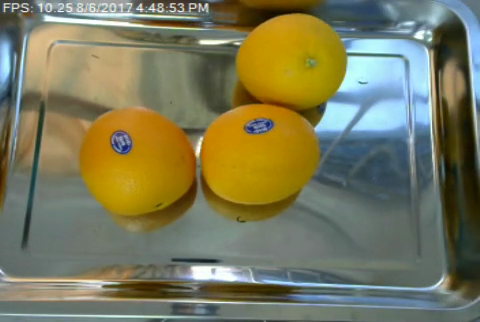Orange: (80, 105, 197, 214), (199, 102, 322, 204), (236, 13, 347, 111)
